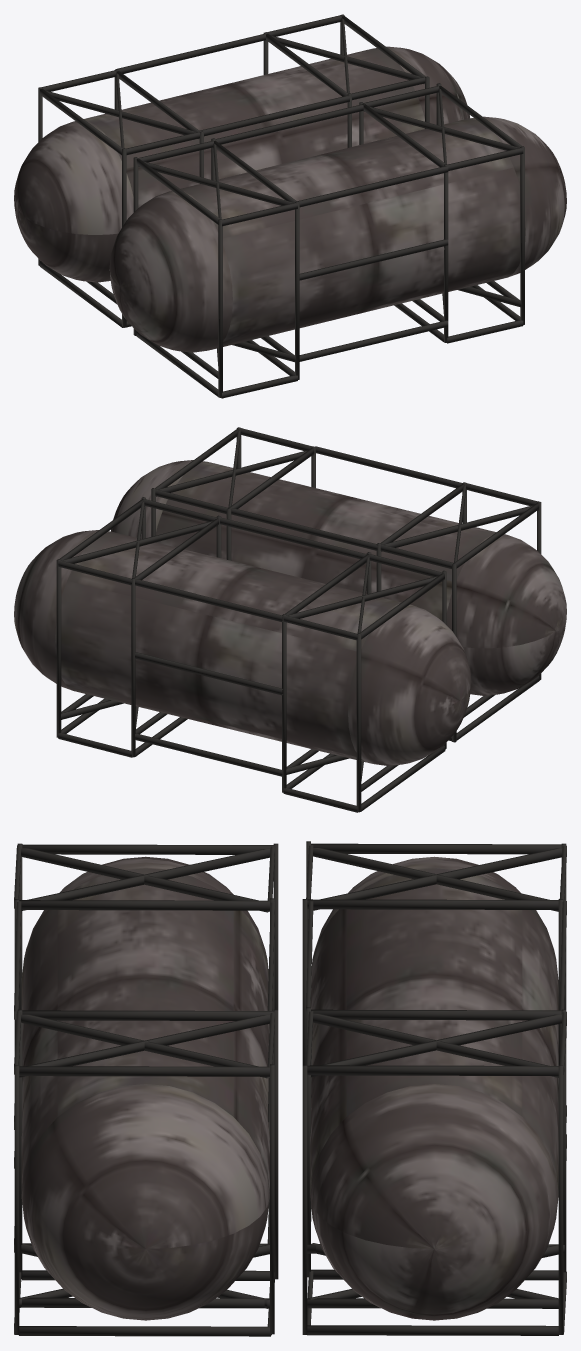
The model's file is Fuel_Tank.glb.
3 renders of one model, top to bottom at view 1: azimuth 30°, elevation 25°; view 2: azimuth 150°, elevation 25°; view 3: azimuth 270°, elevation 25°, orthographic. The views are drawn at different scales.
Parts seen in each view (by area): view 1: Fuel_Tank; view 2: Fuel_Tank; view 3: Fuel_Tank.
Boxes of the visible parts, x1=… form: Fuel_Tank: x1=14, y1=14, x2=566, y2=398; Fuel_Tank: x1=14, y1=427, x2=566, y2=812; Fuel_Tank: x1=14, y1=841, x2=566, y2=1336.
Size of the model in its own units: 8.91 by 3.5 by 6.49.
1 material, 1 textured.
